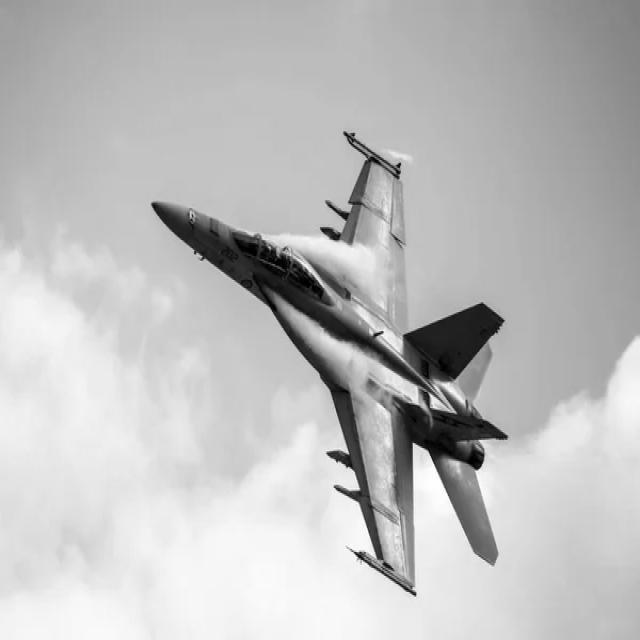Aircraft: (138, 121, 524, 607)
